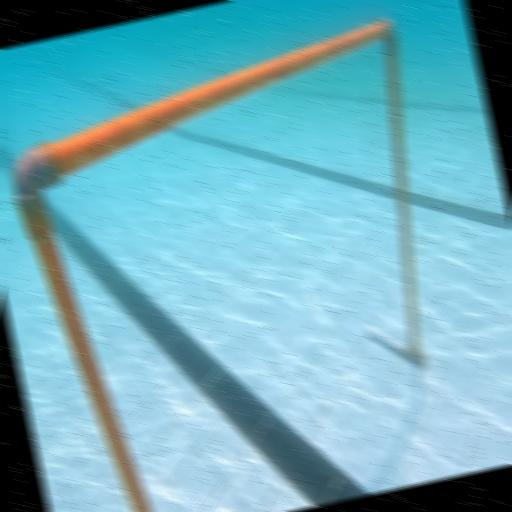gate: (0, 15, 490, 512)
